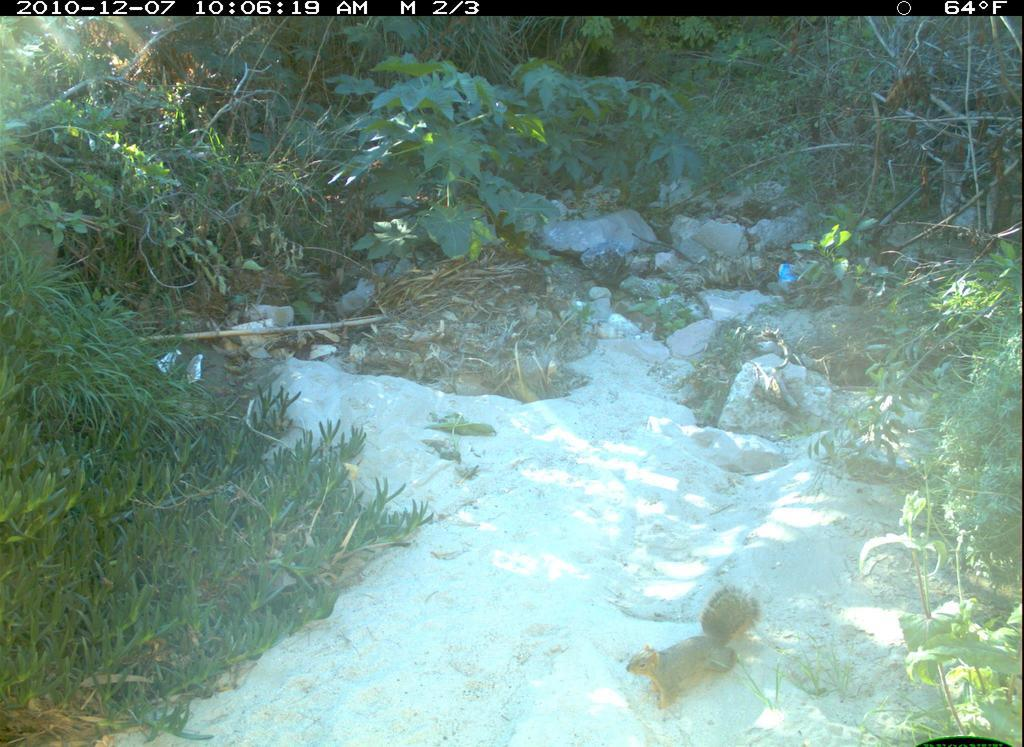squirrel: (624, 575, 783, 710)
